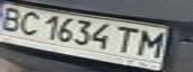1: (36, 12, 63, 42)
3: (72, 18, 93, 48)
4: (90, 20, 115, 52)
6: (54, 16, 75, 45)
B: (0, 3, 30, 32)
C: (12, 9, 45, 36)
M: (133, 28, 172, 58)
T: (112, 24, 142, 55)
